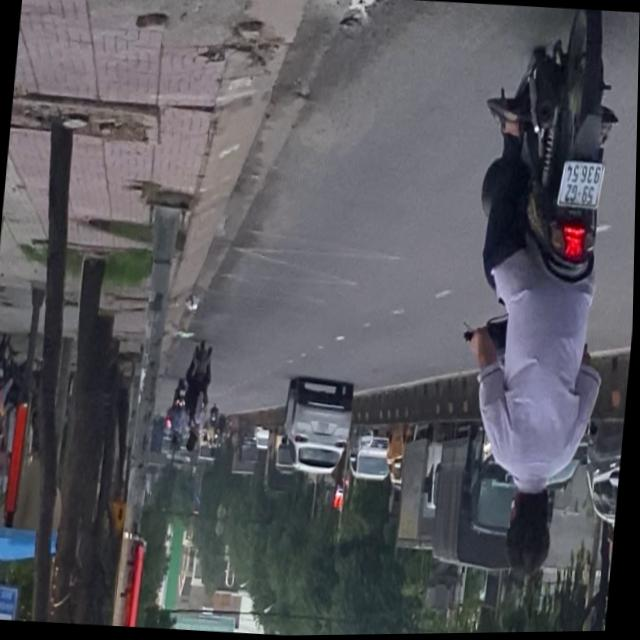licenseplate: (443, 4, 638, 590)
motorcyclist: (502, 485, 560, 584)
nohelmet: (559, 163, 605, 213)
